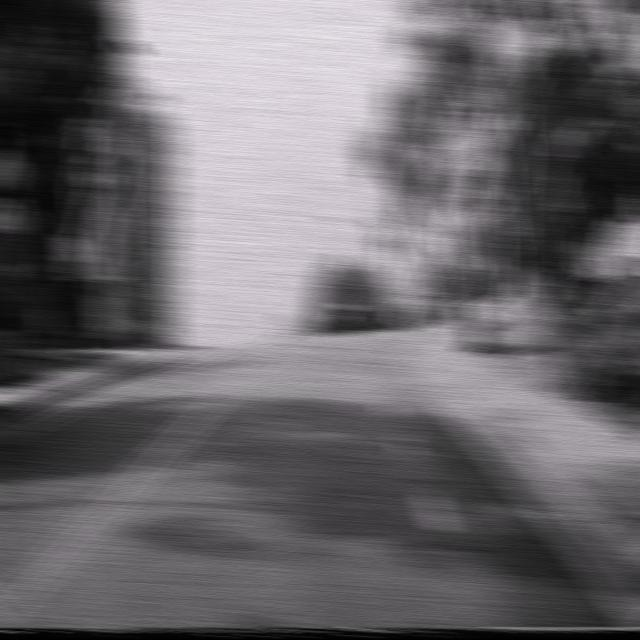stop_sign: (449, 228, 476, 259)
